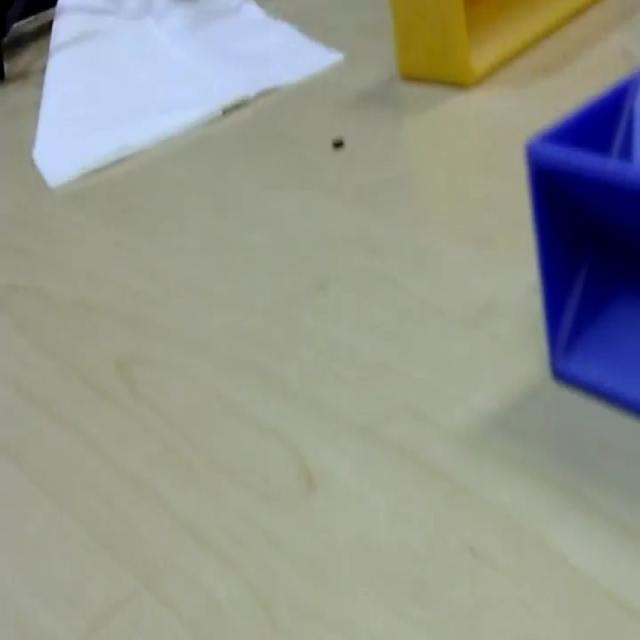blue_block: (523, 65, 638, 415)
yellow_block: (388, 0, 599, 87)
